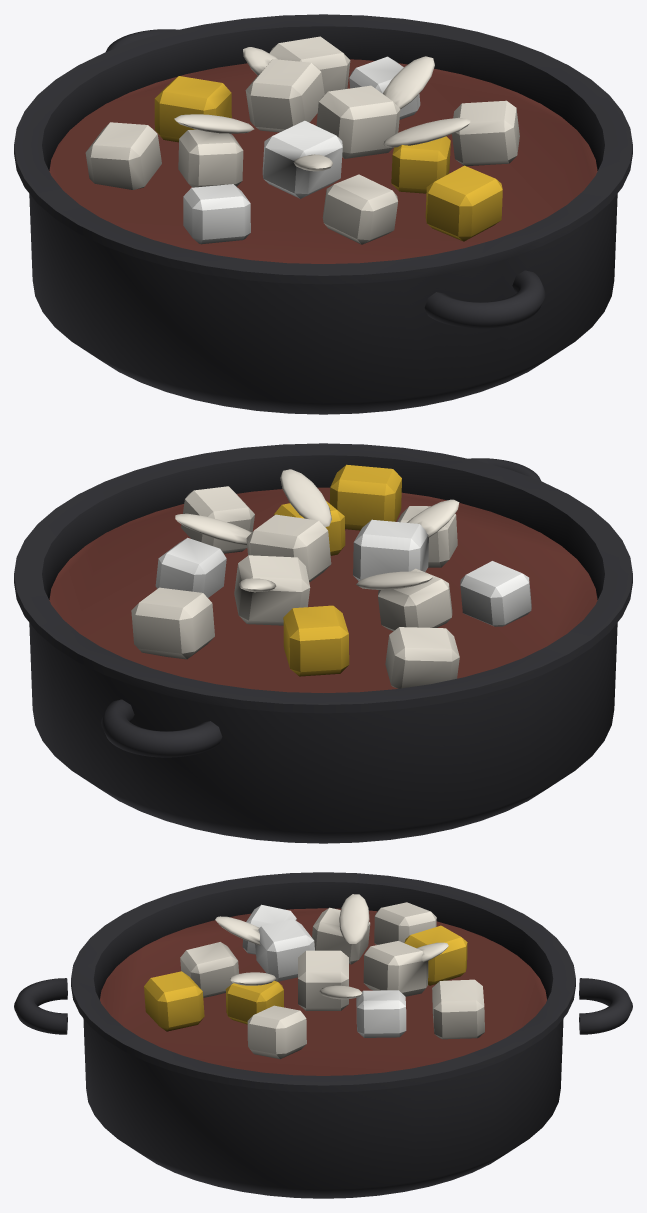
Rendered from meal_hotpot.glb.
3 renders of one model, top to bottom at view 1: azimuth 30°, elevation 25°; view 2: azimuth 150°, elevation 25°; view 3: azimuth 270°, elevation 25°, orthographic. The views are drawn at different scales.
Parts seen in each view (by area): view 1: PART; view 2: PART; view 3: PART.
Boxes of the visible parts, <box> form: PART: <box>14,14,632,414</box>; PART: <box>14,443,632,843</box>; PART: <box>14,872,632,1198</box>.
Size of the model in its own units: 0.266 by 0.0964 by 0.326.
